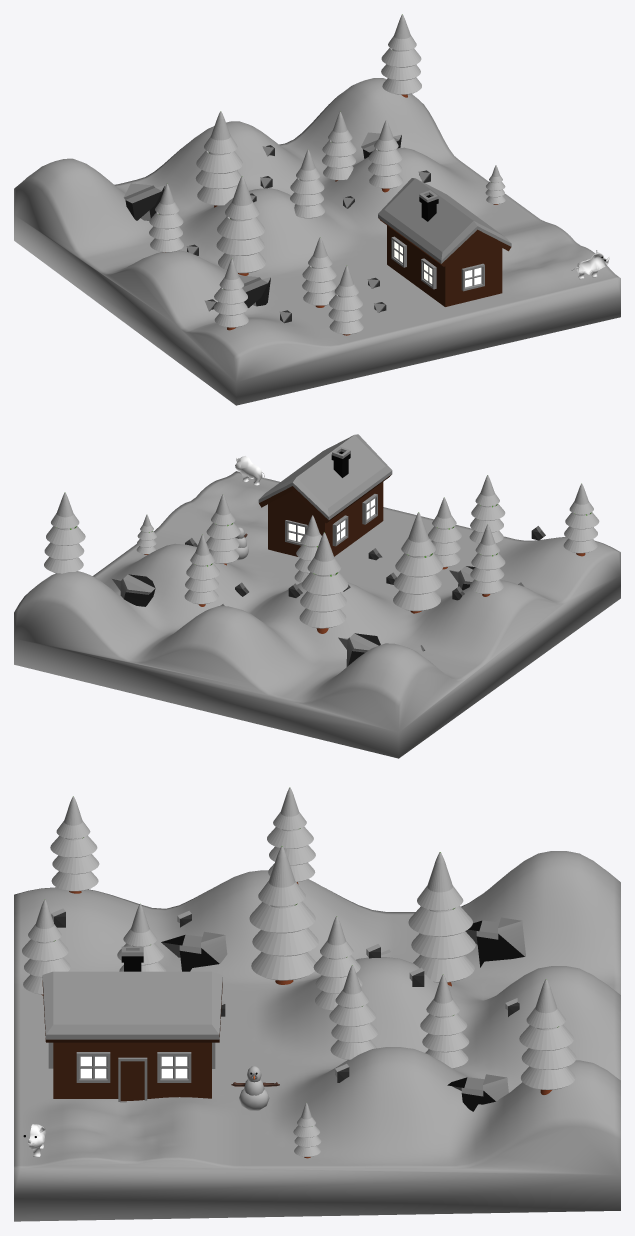
The model's file is House2.gltf.
3 renders of one model, top to bottom at view 1: azimuth 30°, elevation 25°; view 2: azimuth 150°, elevation 25°; view 3: azimuth 270°, elevation 25°, orthographic. The views are drawn at different scales.
Parts seen in each view (by area): view 1: Sol, Cube, Arbre.004, Arbre.006, Arbre.008, Arbre.001, Arbre, Arbre.007, Arbre.003, Arbre.009, Arbre.010, Arbre.002 (+3 smaller); view 2: Sol, Cube, Arbre.004, Arbre.006, Arbre.008, Arbre, Arbre.003, Arbre.002, Arbre.001, Arbre.007, Arbre.009, rock.006 (+4 smaller); view 3: Sol, Cube, Arbre.004, Arbre.006, Arbre.008, Arbre, Arbre.001, Arbre.002, Arbre.003, Arbre.007, Arbre.010, rock.001 (+6 smaller).
Part boxes in pixels (bbox=[...]): Sol: bbox=[14, 78, 620, 405]; Cube: bbox=[378, 178, 511, 306]; Arbre.004: bbox=[216, 176, 265, 275]; Arbre.006: bbox=[195, 111, 242, 207]; Arbre.008: bbox=[381, 14, 421, 97]; Arbre.001: bbox=[368, 120, 403, 192]; Arbre: bbox=[213, 259, 248, 330]; Arbre.007: bbox=[328, 265, 363, 335]; Arbre.003: bbox=[149, 183, 183, 252]; Arbre.009: bbox=[302, 237, 336, 307]; Arbre.010: bbox=[290, 149, 324, 218]; Arbre.002: bbox=[322, 111, 356, 181]; Sol: bbox=[14, 471, 620, 758]; Cube: bbox=[258, 434, 392, 556]; Arbre.004: bbox=[393, 512, 443, 613]; Arbre.006: bbox=[299, 532, 348, 633]; Arbre.008: bbox=[44, 492, 85, 573]; Arbre: bbox=[563, 483, 599, 556]; Arbre.003: bbox=[469, 524, 505, 596]; Arbre.002: bbox=[184, 534, 219, 606]; Arbre.001: bbox=[206, 494, 240, 565]; Arbre.007: bbox=[469, 475, 505, 543]; Arbre.009: bbox=[428, 497, 461, 569]; rock.006: bbox=[112, 574, 155, 606]; Sol: bbox=[14, 851, 620, 1221]; Cube: bbox=[42, 946, 222, 1102]; Arbre.004: bbox=[249, 846, 318, 984]; Arbre.006: bbox=[408, 852, 475, 986]; Arbre.008: bbox=[519, 979, 576, 1094]; Arbre: bbox=[50, 796, 99, 893]; Arbre.001: bbox=[329, 965, 378, 1059]; Arbre.002: bbox=[420, 974, 469, 1068]; Arbre.003: bbox=[267, 787, 315, 884]; Arbre.007: bbox=[22, 899, 70, 995]; Arbre.010: bbox=[313, 916, 362, 1010]; rock.001: bbox=[465, 917, 525, 967].
Bounding box in the file's own units: 38.21 × 15.74 × 38.21.
